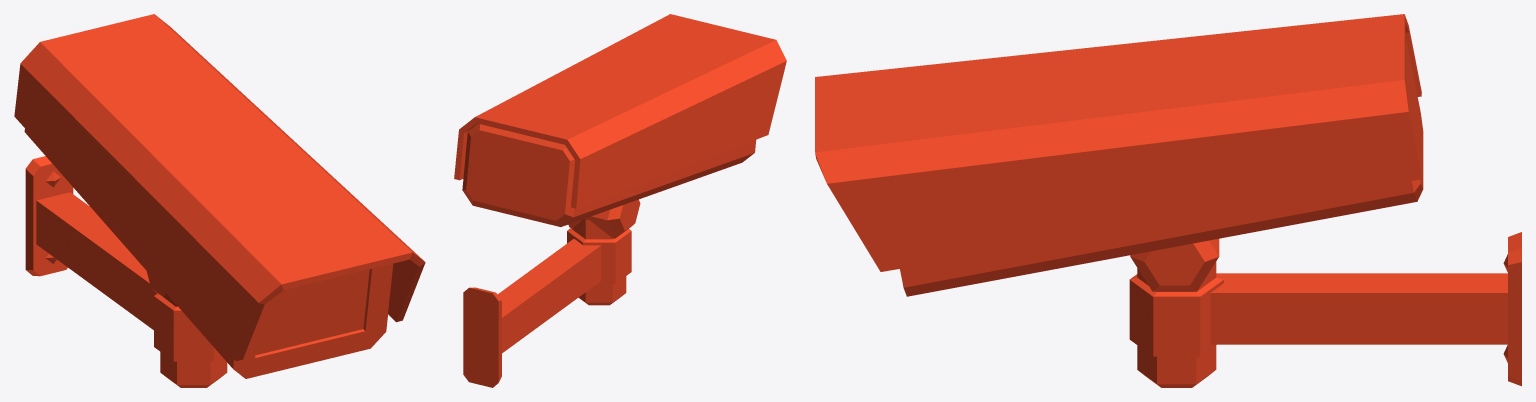
File: SM_Security_Cam_A_City.fbx
3 renders of one model, left to right at view 1: azimuth 30°, elevation 25°; view 2: azimuth 150°, elevation 25°; view 3: azimuth 270°, elevation 25°, orthographic. The views are drawn at different scales.
Parts seen in each view (by area): view 1: SM_Security_Cam_A_City; view 2: SM_Security_Cam_A_City; view 3: SM_Security_Cam_A_City.
Boxes of the visible parts, x1,y1,x2,y2 form: SM_Security_Cam_A_City: (14, 14, 425, 387); SM_Security_Cam_A_City: (454, 14, 786, 387); SM_Security_Cam_A_City: (815, 14, 1521, 387).
Size of the model in its own units: 0.1307 by 0.2101 by 0.4065.
